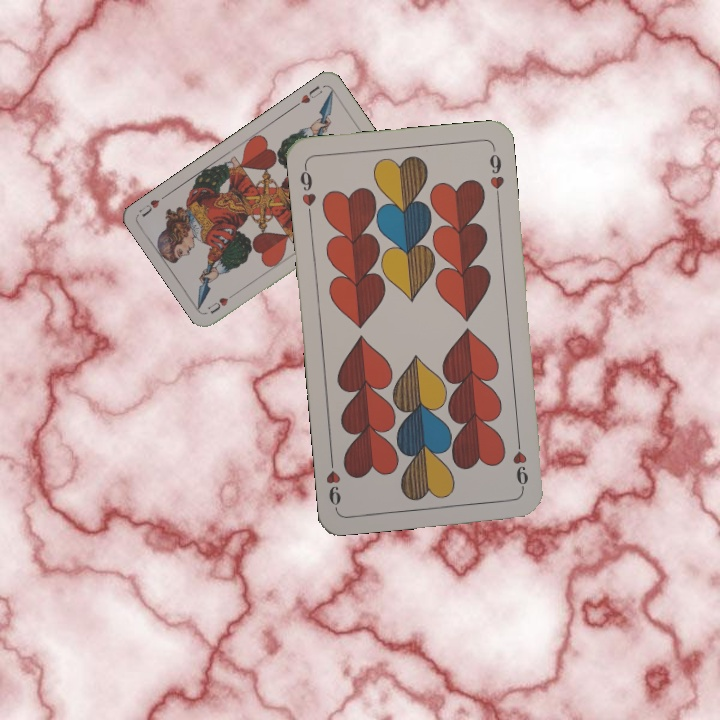H9: (296, 162, 319, 221), (508, 434, 531, 493)
HU: (204, 288, 240, 317), (291, 81, 325, 110)
